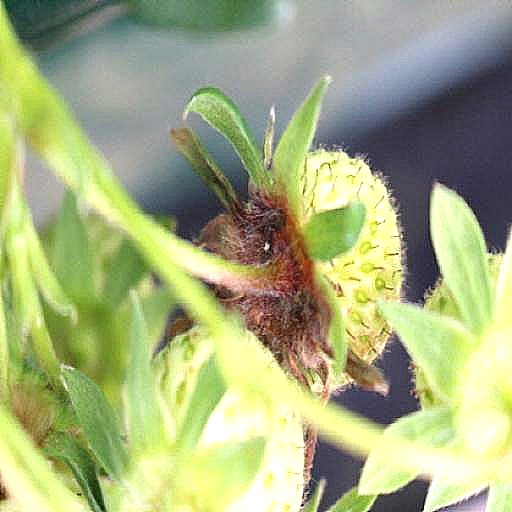Gray Mold: (164, 128, 391, 477)
